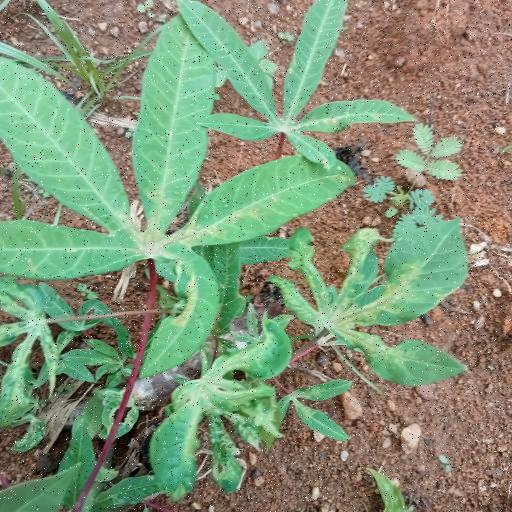Cassava_Mosaic: (8, 24, 344, 359), (186, 6, 406, 151), (290, 220, 472, 381), (150, 317, 299, 496)
